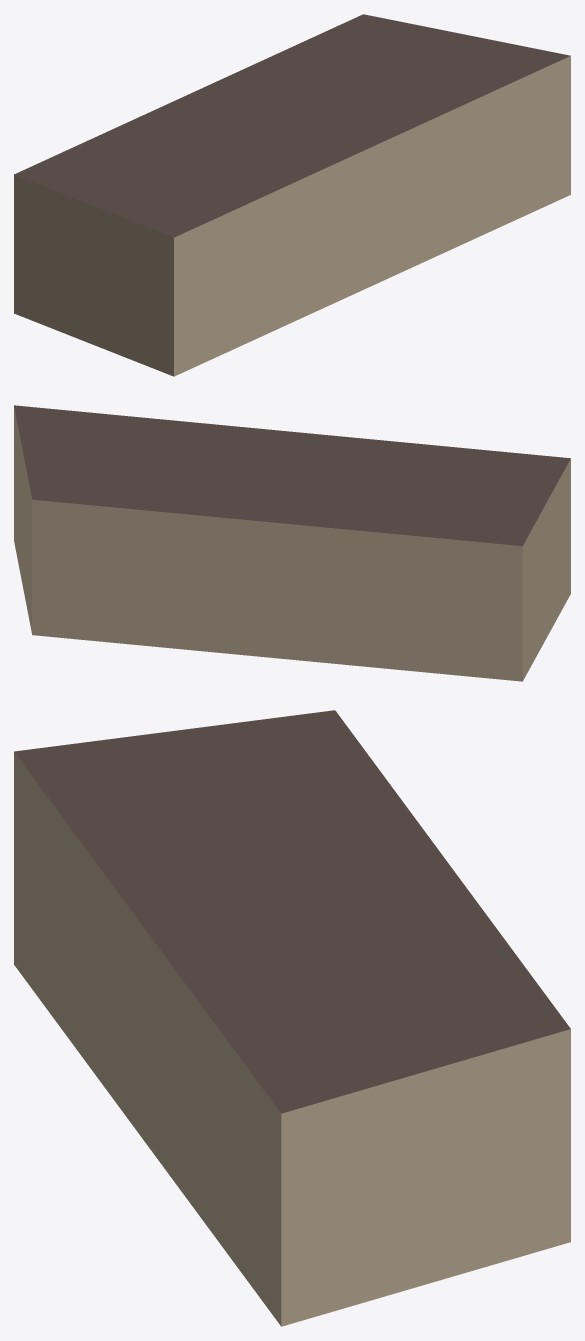
The picture shows the model from 3 angles, top to bottom: view 1: azimuth 30°, elevation 25°; view 2: azimuth 150°, elevation 25°; view 3: azimuth 270°, elevation 25°; orthographic projection. The views are drawn at different scales.
Visible parts, largest first — view 1: HP-w756797944; view 2: HP-w756797944; view 3: HP-w756797944.
Part boxes in pixels (bbox=[...]): HP-w756797944: bbox=[14, 14, 570, 376]; HP-w756797944: bbox=[14, 405, 570, 681]; HP-w756797944: bbox=[14, 710, 570, 1326].
Size of the model in its own units: 36.55 by 9 by 21.32.
